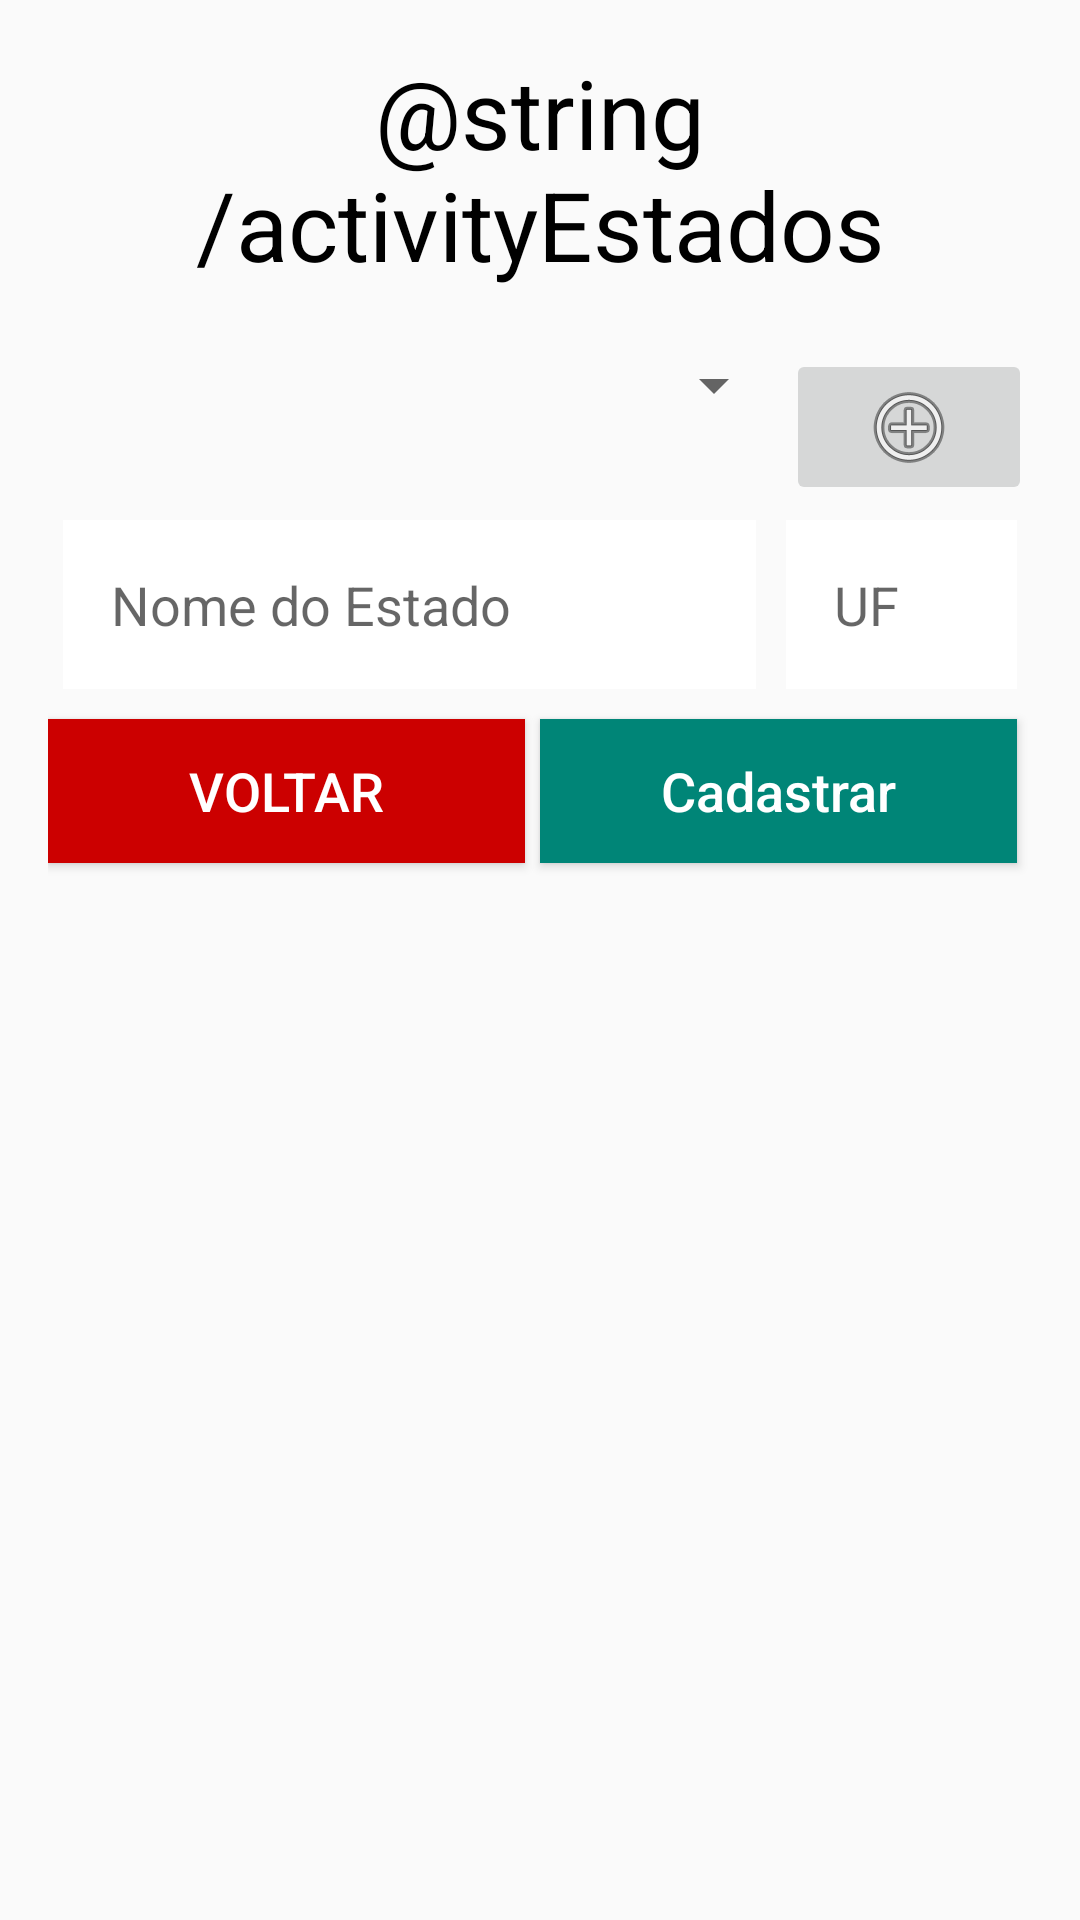

Screen size 1080*1920. Icon name, then its center in pixels as [x,y]:
add: [909,427]
